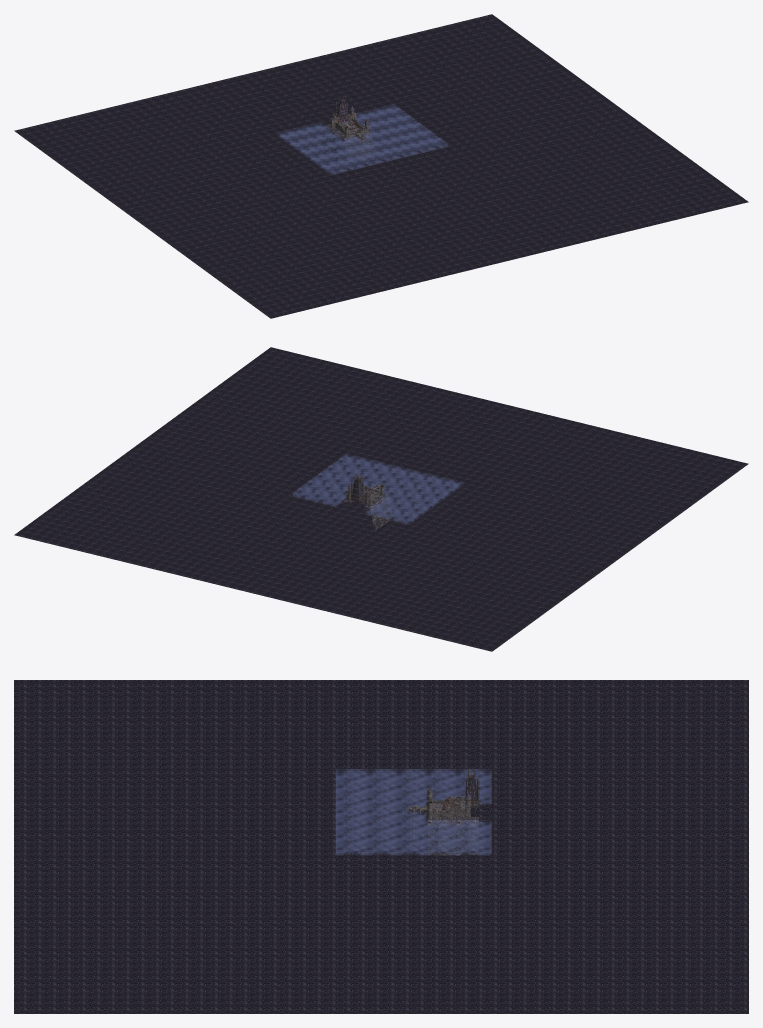
The picture shows the model from 3 angles, top to bottom: view 1: azimuth 30°, elevation 25°; view 2: azimuth 150°, elevation 25°; view 3: azimuth 270°, elevation 25°; orthographic projection. The views are drawn at different scales.
Parts seen in each view (by area): view 1: rock, mist, wall; view 2: rock, mist, wall; view 3: rock, mist, wall.
Part boxes in pixels (box(x1,y1,x2,y2)): rock: box(14, 14, 748, 318); mist: box(277, 104, 447, 174); wall: box(330, 98, 368, 160); rock: box(14, 347, 748, 651); mist: box(292, 453, 463, 524); wall: box(346, 477, 384, 505); rock: box(14, 680, 748, 1013); mist: box(335, 769, 491, 855); wall: box(409, 774, 479, 842).
Bounding box in the file's own units: 860 × 94.44 × 800.
Materials: 6 (6 with a texture image).
